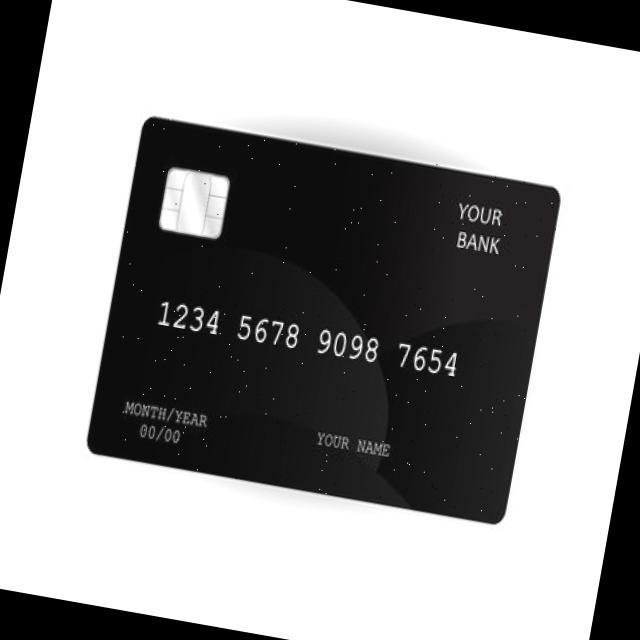payment_card: (85, 114, 561, 525)
